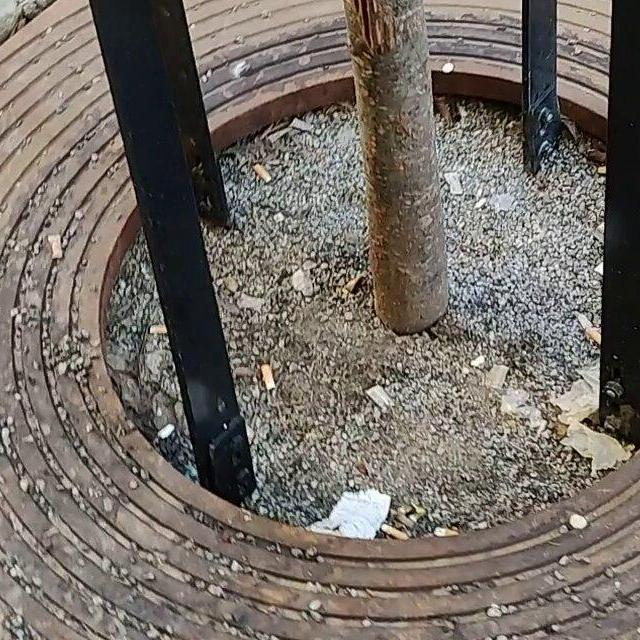Cigarette Butt: (579, 313, 602, 345), (379, 525, 411, 546), (258, 362, 280, 392), (252, 158, 271, 186), (434, 523, 456, 539)
